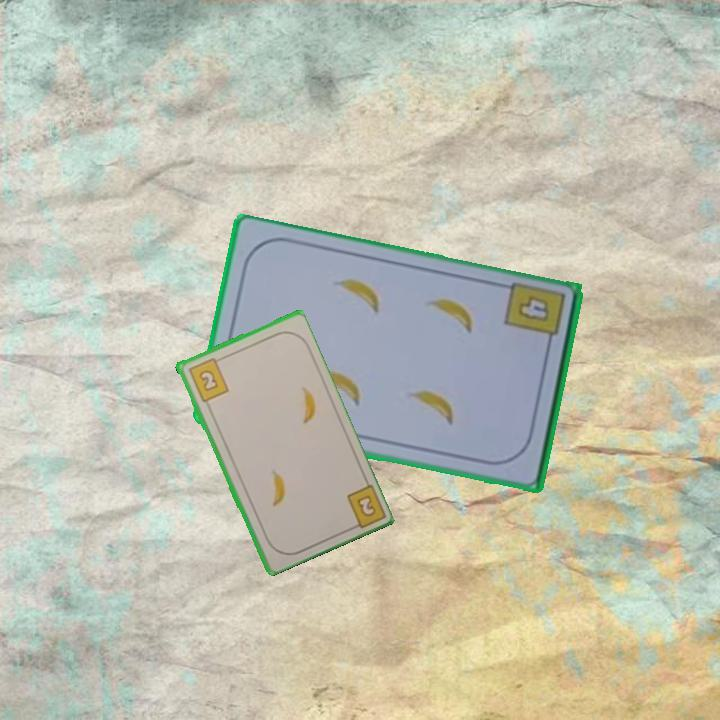2b: (184, 354, 231, 405), (343, 480, 386, 533)
4b: (501, 278, 568, 352)
